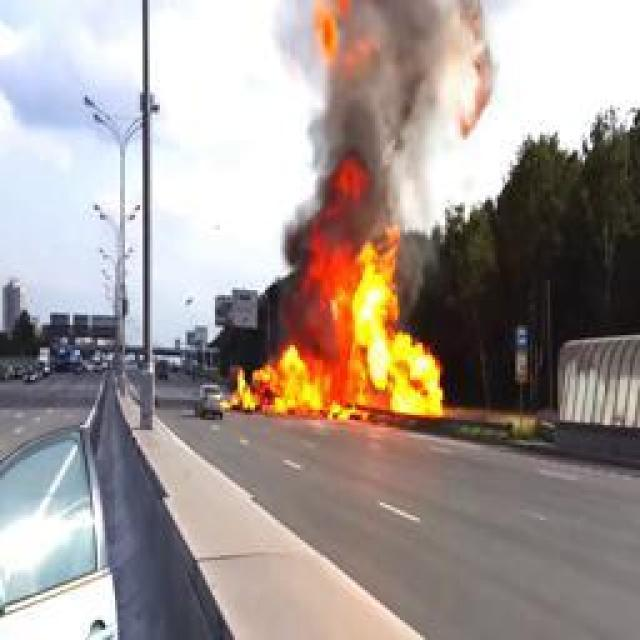Fire: (235, 158, 445, 422)
